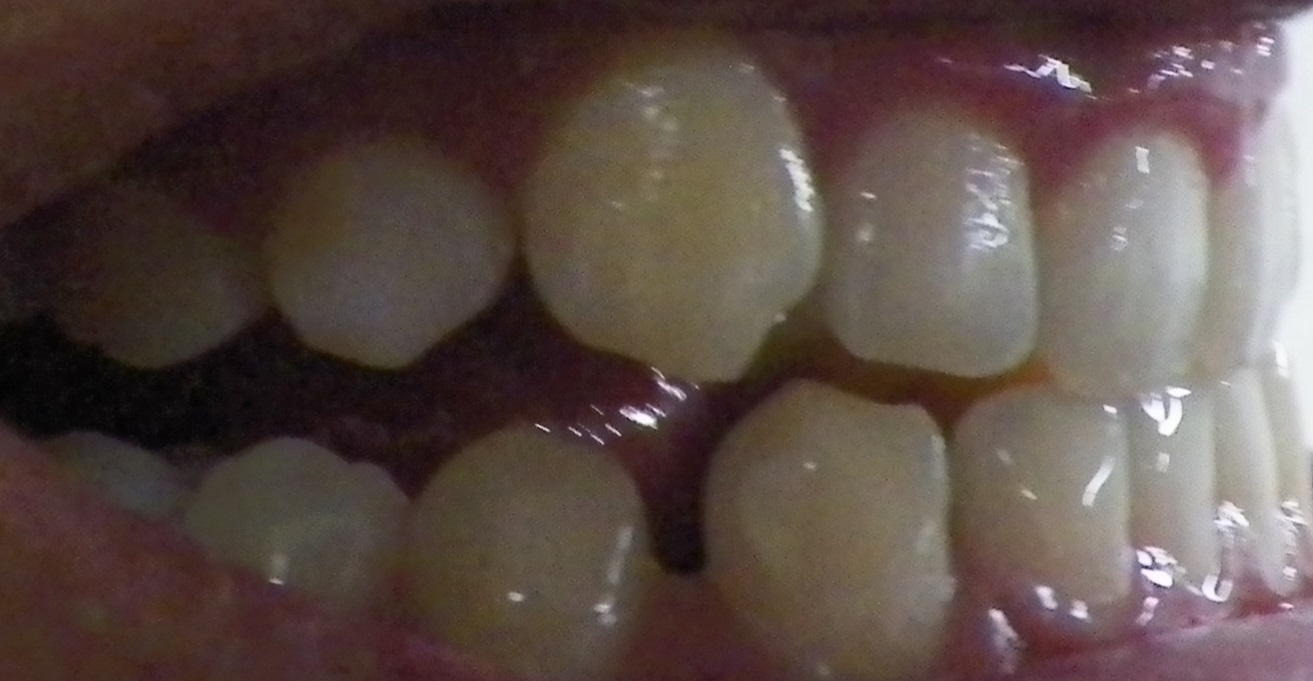boca: (10, 98, 1298, 659)
